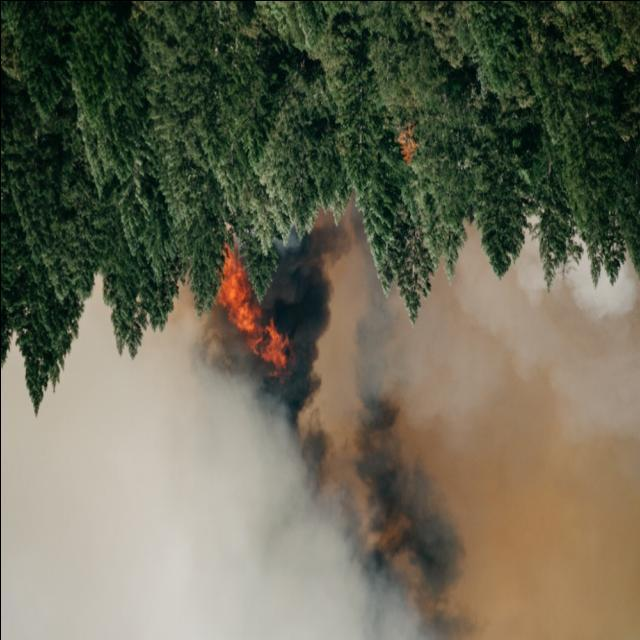Fire: (207, 243, 299, 377)
